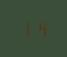four: (33, 19, 46, 37)
one: (19, 19, 32, 36)
